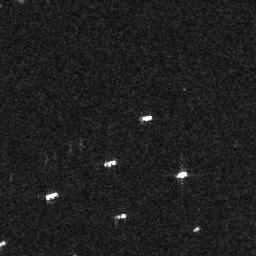ship: (45, 190, 59, 201), (139, 113, 154, 122), (104, 159, 116, 169), (175, 170, 188, 179), (115, 211, 127, 220)
